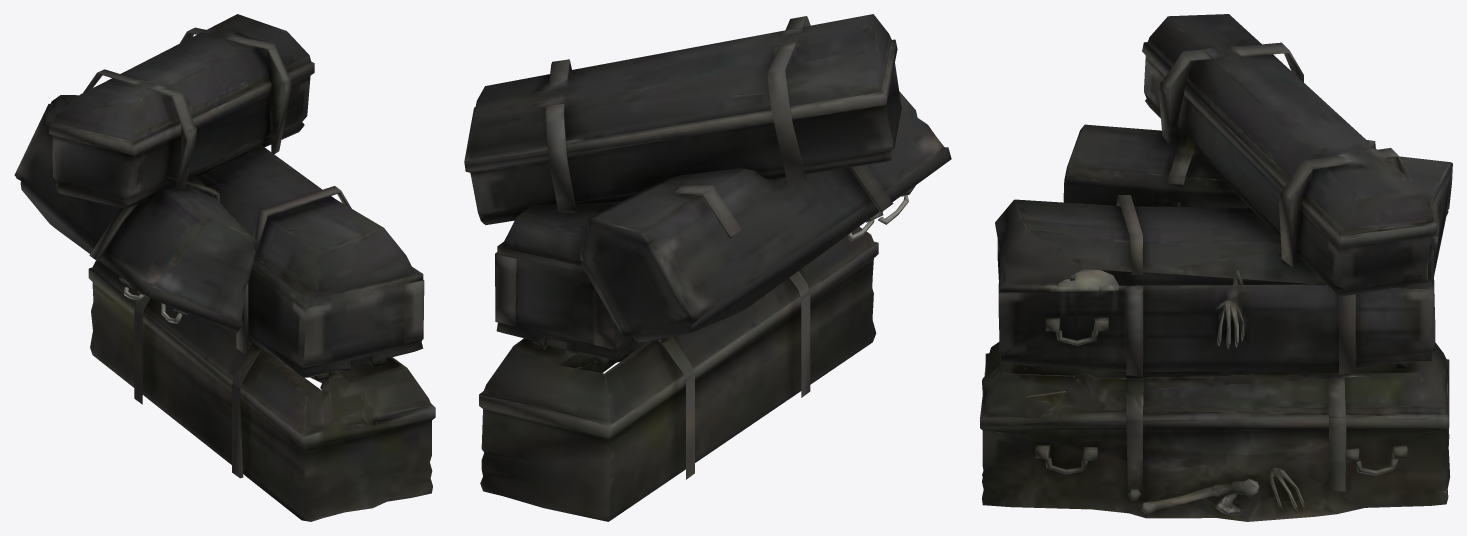
File: coffin_stack.glb
3 views of the same model, side by side, from view 1: azimuth 30°, elevation 25°; view 2: azimuth 150°, elevation 25°; view 3: azimuth 270°, elevation 25° (orthographic). The views are drawn at different scales.
Visible parts, largest first — view 1: tripo_node_6d53c28e-dadf-4b2d-9bb4-18192ef8da2f; view 2: tripo_node_6d53c28e-dadf-4b2d-9bb4-18192ef8da2f; view 3: tripo_node_6d53c28e-dadf-4b2d-9bb4-18192ef8da2f.
Part boxes in pixels (x1,y1,x2,y2): tripo_node_6d53c28e-dadf-4b2d-9bb4-18192ef8da2f: (14,14,435,521); tripo_node_6d53c28e-dadf-4b2d-9bb4-18192ef8da2f: (464,14,951,521); tripo_node_6d53c28e-dadf-4b2d-9bb4-18192ef8da2f: (980,14,1452,521).
Bounding box in the file's own units: 0.7871 × 0.8925 × 0.998.
Materials: 1 (1 with a texture image).
